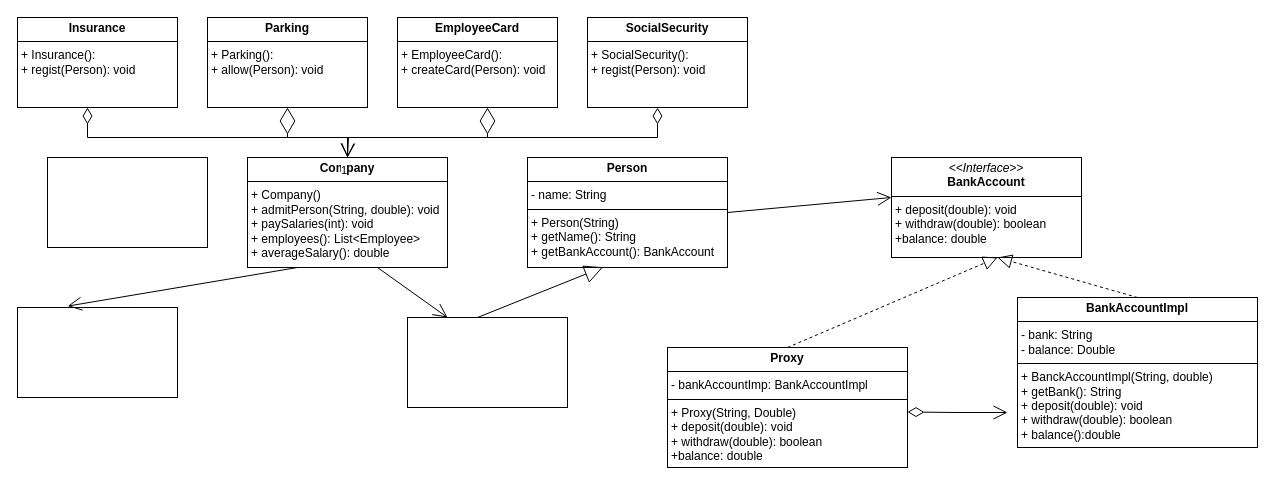
The diagram is 1275 pixels wide and 485 high, and some of its shapes have lost their labels. Each missing label, with the centre of its shape:
Employee - salary: double + Employee(String, double) + getSalary(): double: pixel 487 362
SharkCompany + SharkCompany() + main(String[]): void: pixel 127 202
User - OWNER: User - COMPANY: User + User(): pixel 97 352
